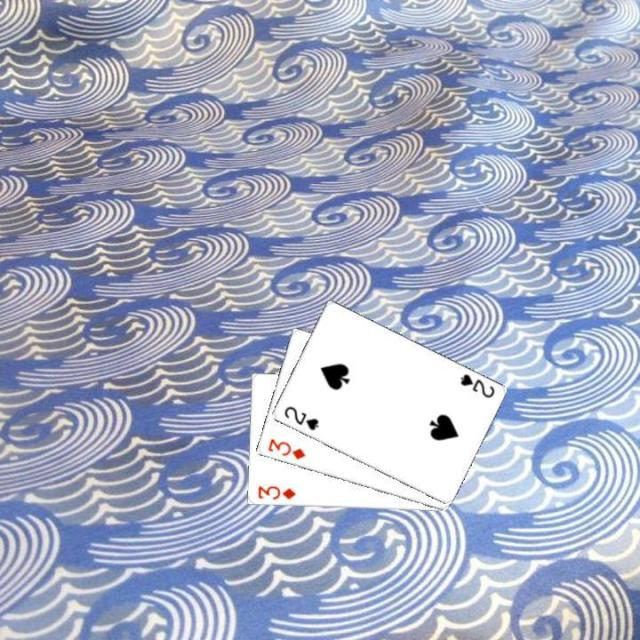2S: (280, 402, 320, 432), (456, 370, 496, 400)
3D: (263, 435, 308, 461), (253, 482, 298, 501)
